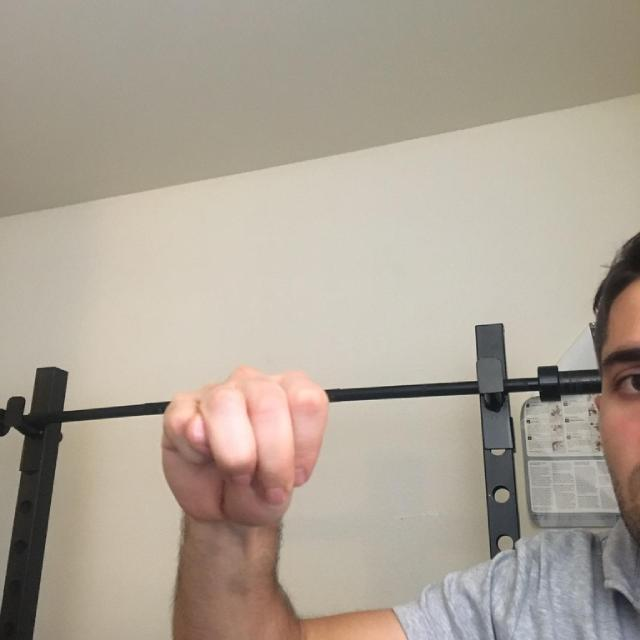M: (145, 309, 425, 616)
